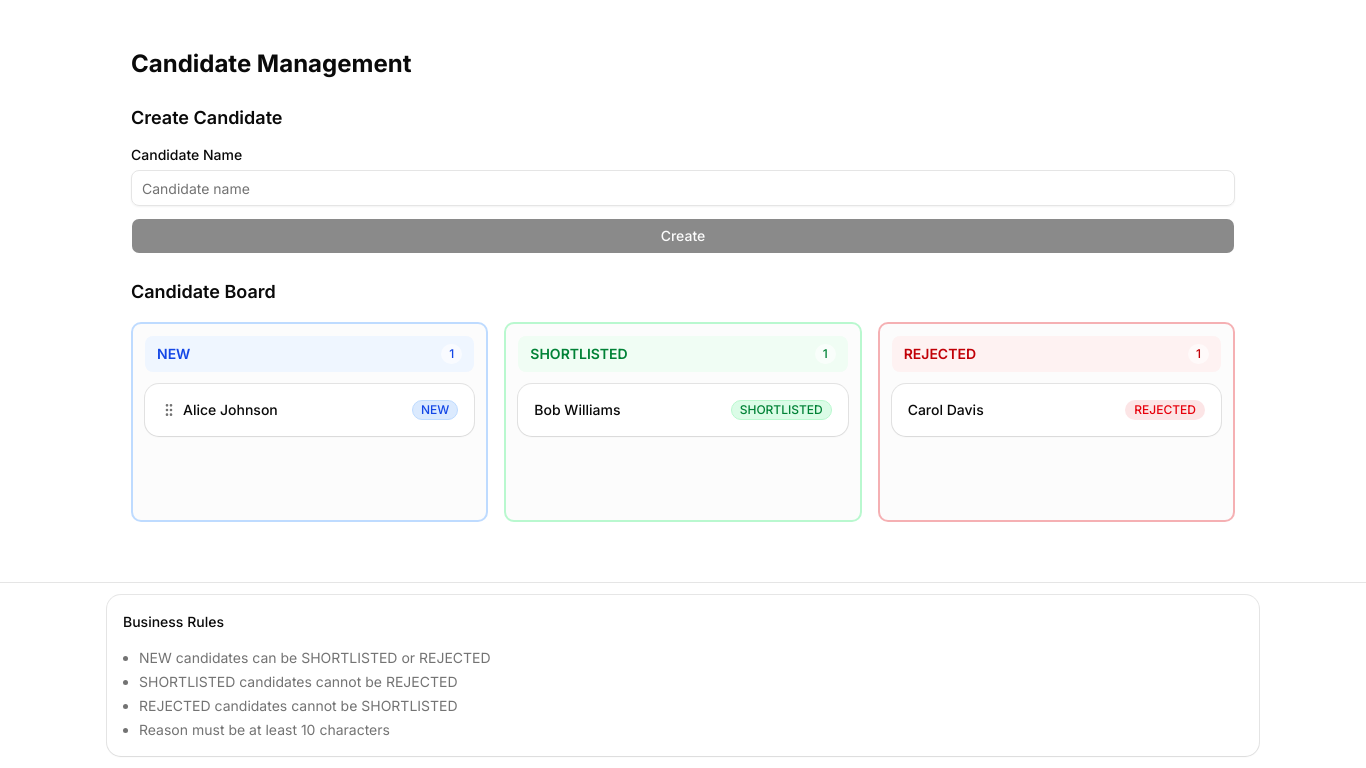
LiveSession Page › displays error message on API failure
Expected: the text "Alice Johnson" is shown, [183,400,278,420]
Type "Test" into the field with placeholder "Candidate Name" at {"x": 683, "y": 188}, box [131,170,1235,206]
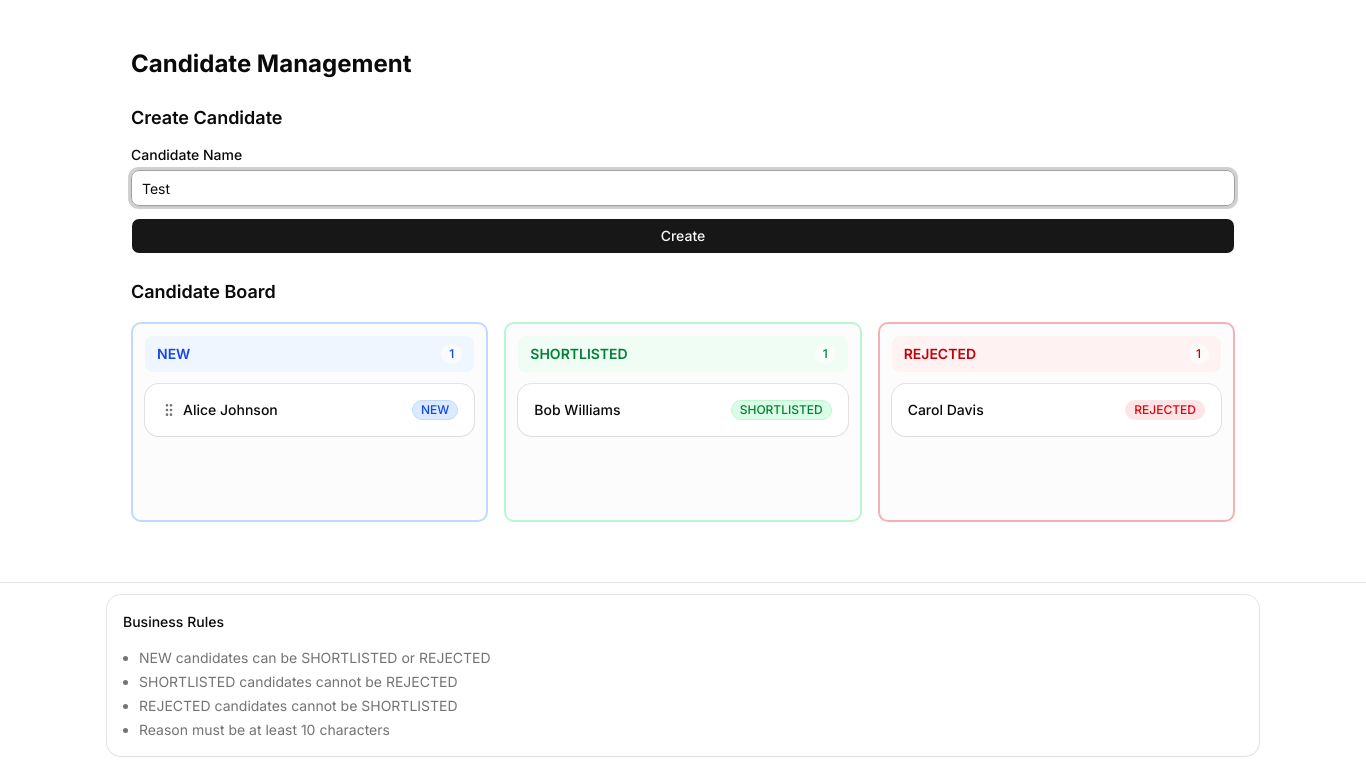
Click the button "Create" at {"x": 683, "y": 236}, box [131,218,1235,254]
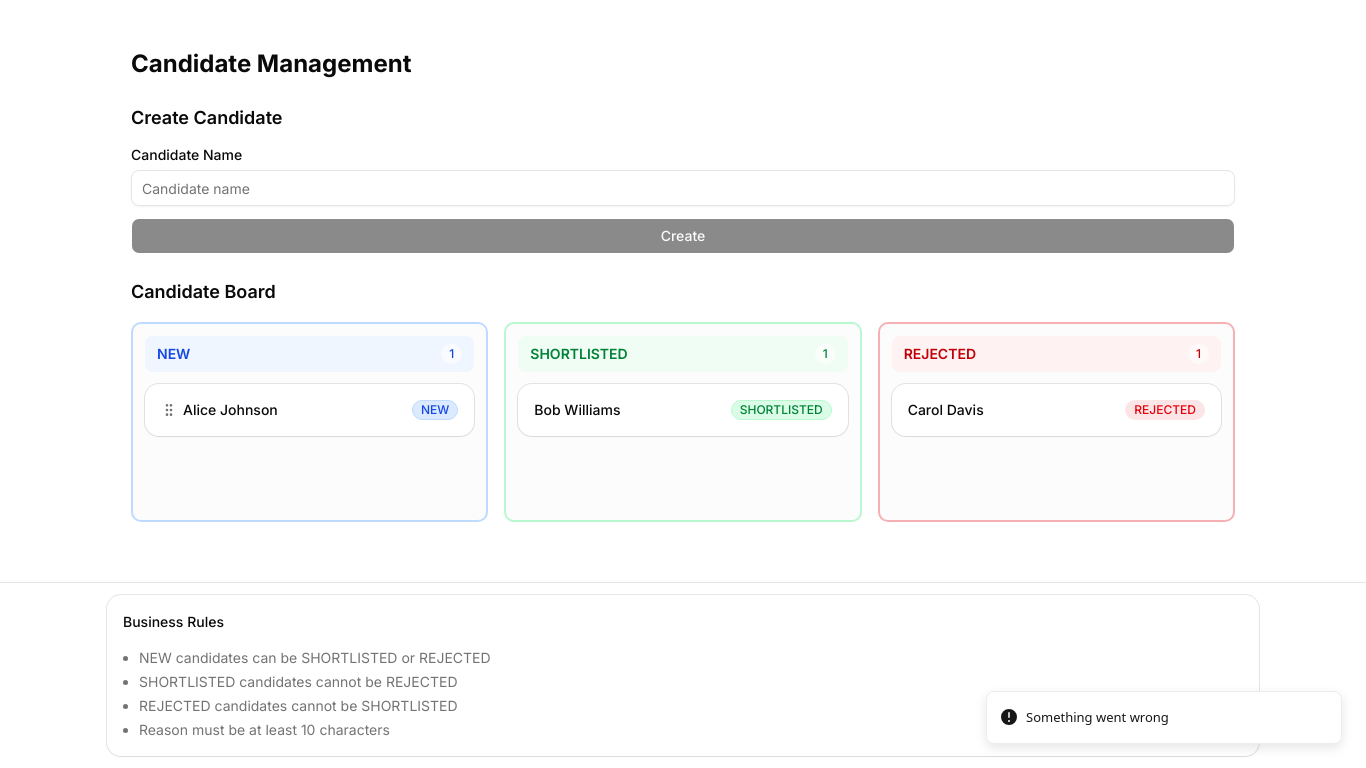
Expected: the text "Something went wrong" is shown, [1026,708,1169,727]
